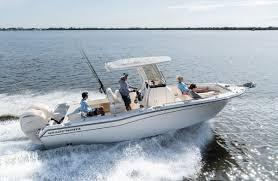fishing boat: (15, 50, 258, 150)
